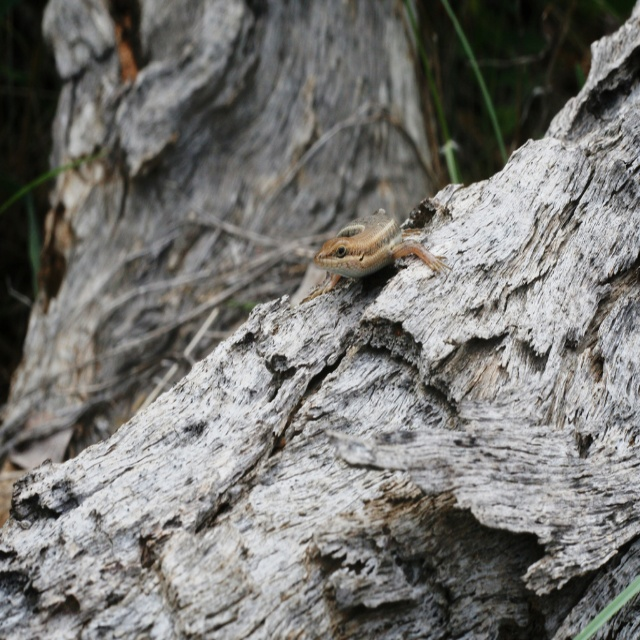Lizard: (322, 201, 455, 310)
